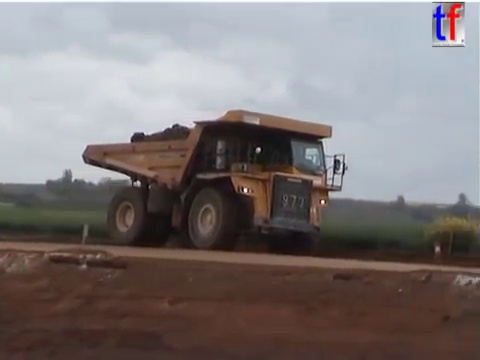truck: (80, 107, 351, 257)
